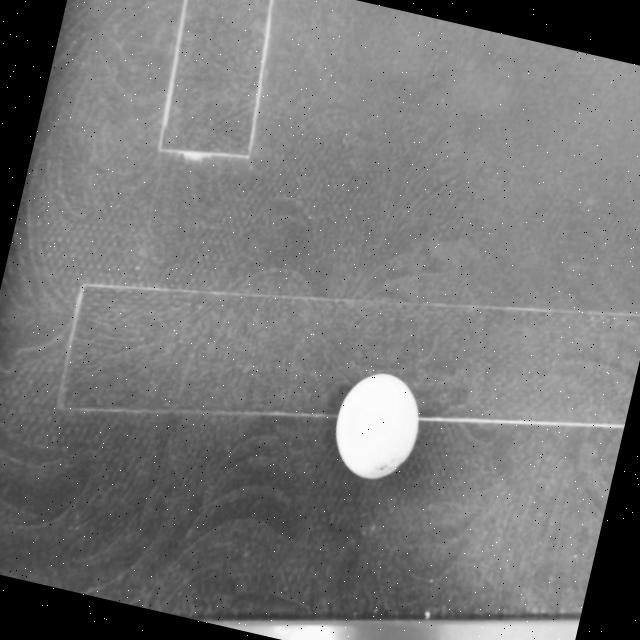ping-pong-ball: (322, 364, 427, 488)
